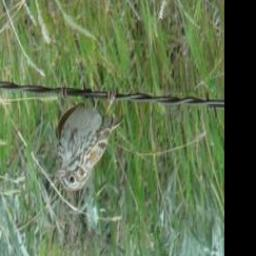Sparrow: (53, 87, 124, 196)
